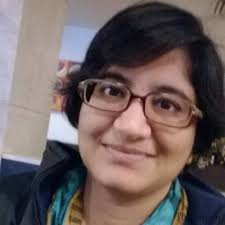indian_female: (65, 1, 204, 201)
